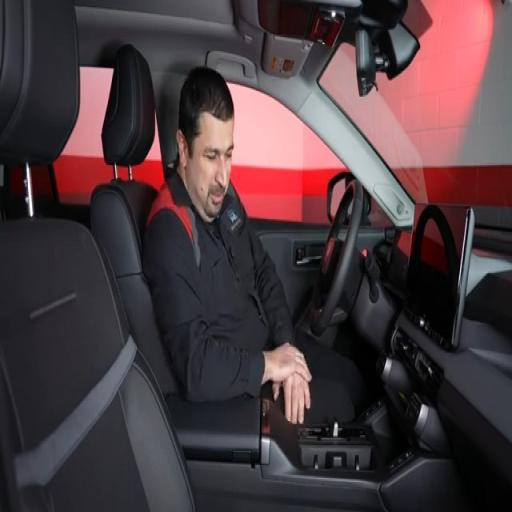side_mirror: (327, 171, 354, 223), (327, 171, 353, 221), (356, 29, 375, 96)
window: (229, 84, 346, 224)
windshield: (320, 0, 511, 207)
